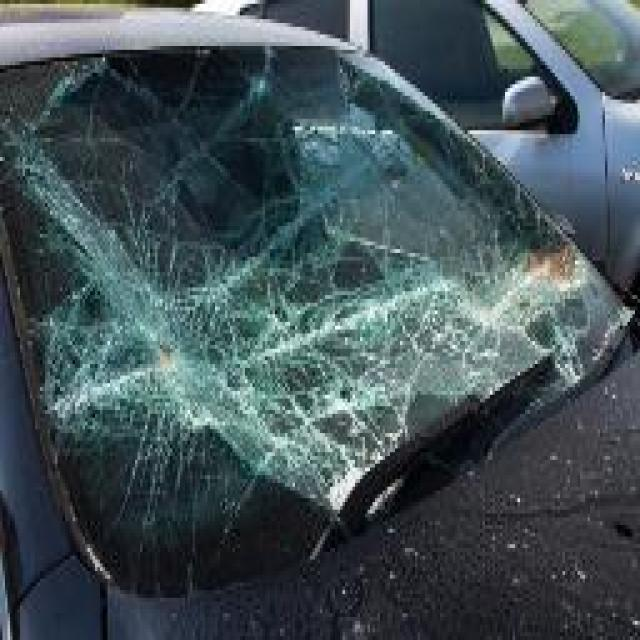Windshield: (0, 50, 640, 529)
